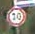limite 30: (5, 6, 26, 26)
